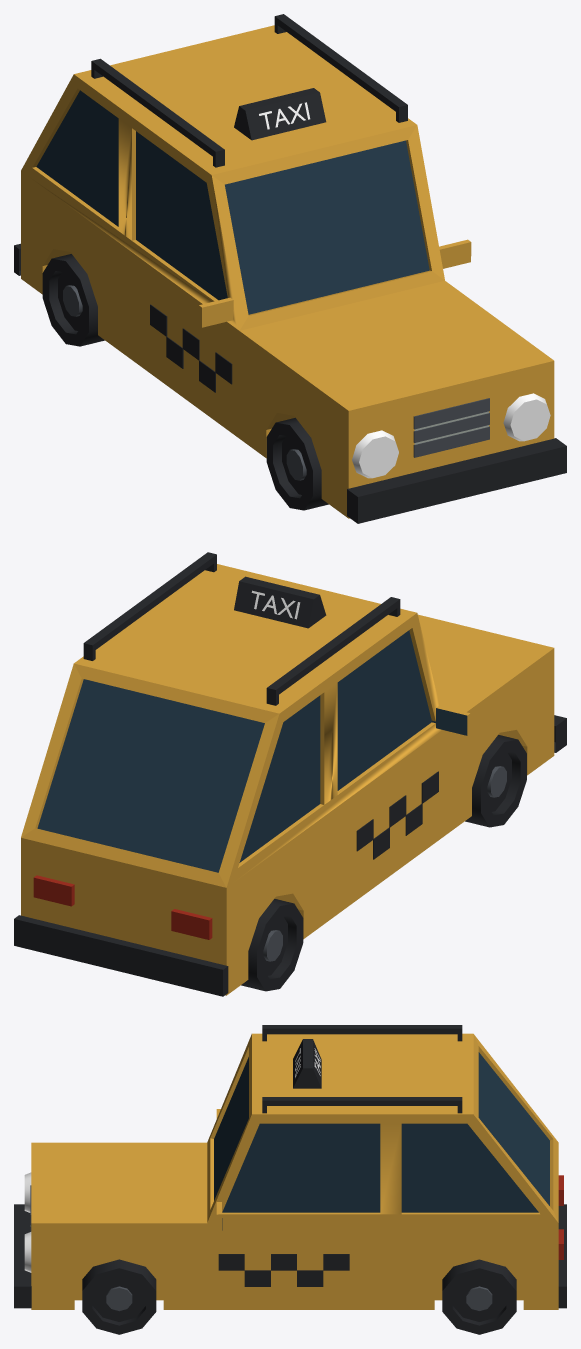
The model's file is TaxiCar_1.fbx.
3 views of the same model, one above another, from view 1: azimuth 30°, elevation 25°; view 2: azimuth 150°, elevation 25°; view 3: azimuth 270°, elevation 25° (orthographic). The views are drawn at different scales.
Parts seen in each view (by area): view 1: TaxiCar_1; view 2: TaxiCar_1; view 3: TaxiCar_1.
Part boxes in pixels (<box>): TaxiCar_1: <box>14,14,566,523</box>; TaxiCar_1: <box>14,552,566,996</box>; TaxiCar_1: <box>14,1025,566,1334</box>.
Bounding box in the file's own units: 140 × 147 × 309.
